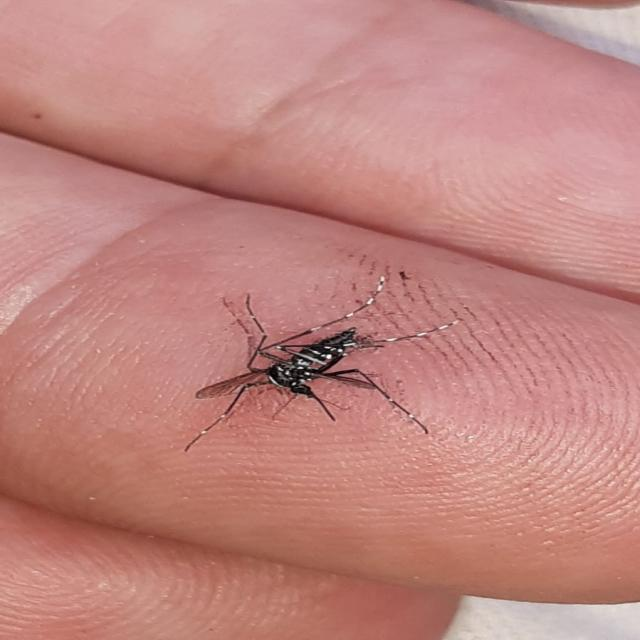albopictus: (177, 263, 460, 452)
